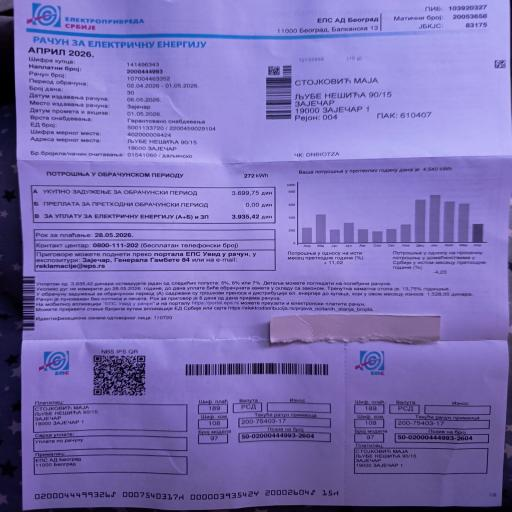racun_za_struju: (29, 163, 284, 239)
